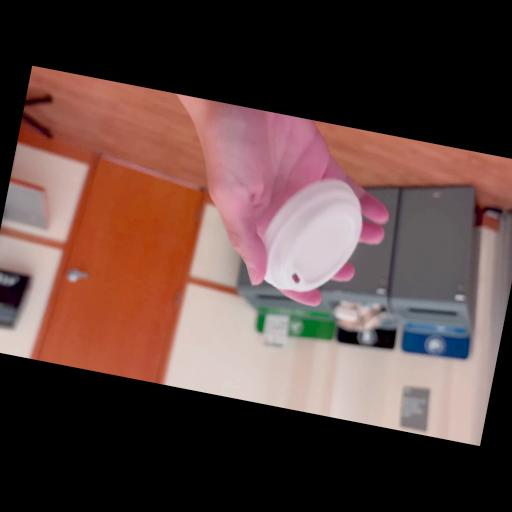lp_cup_lids: (252, 168, 370, 304)
